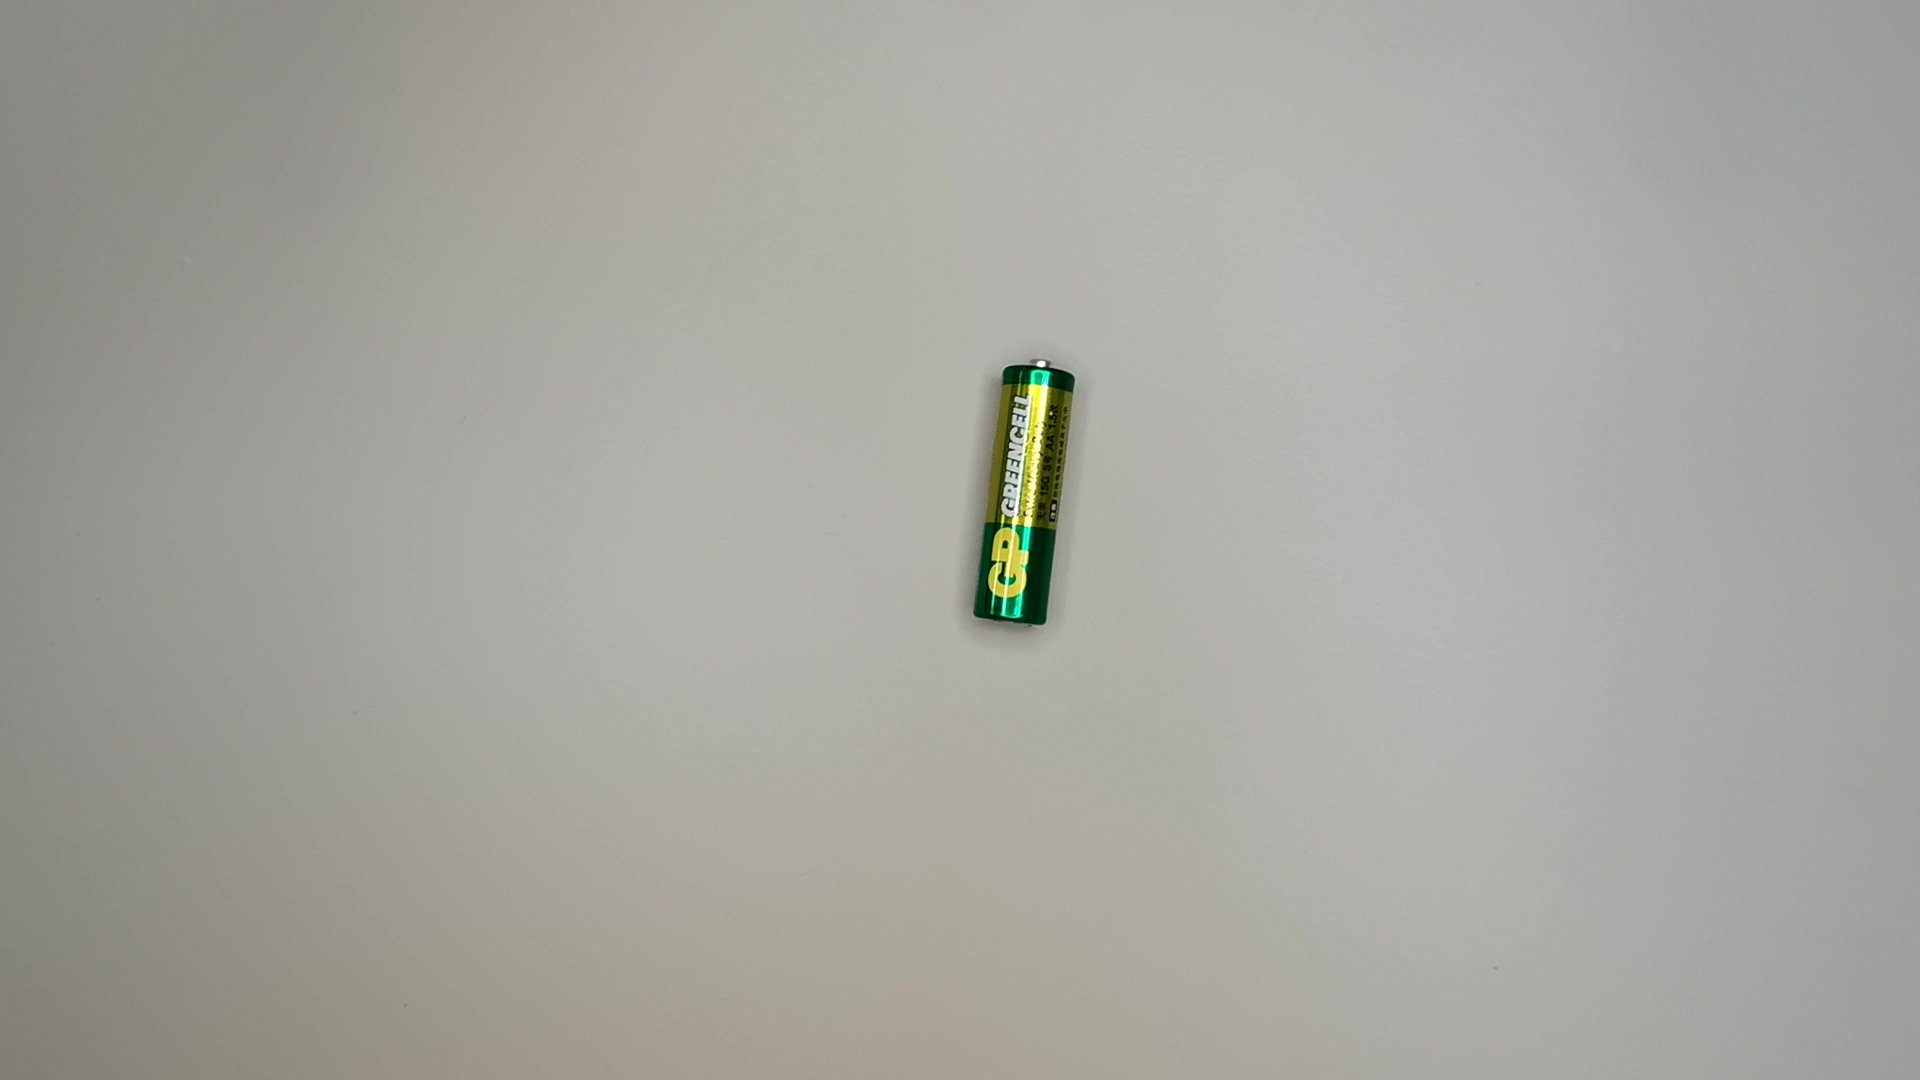battery: (973, 353, 1081, 626)
